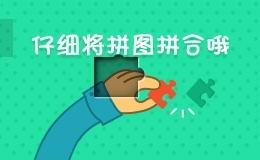target: (72, 36, 116, 76)
